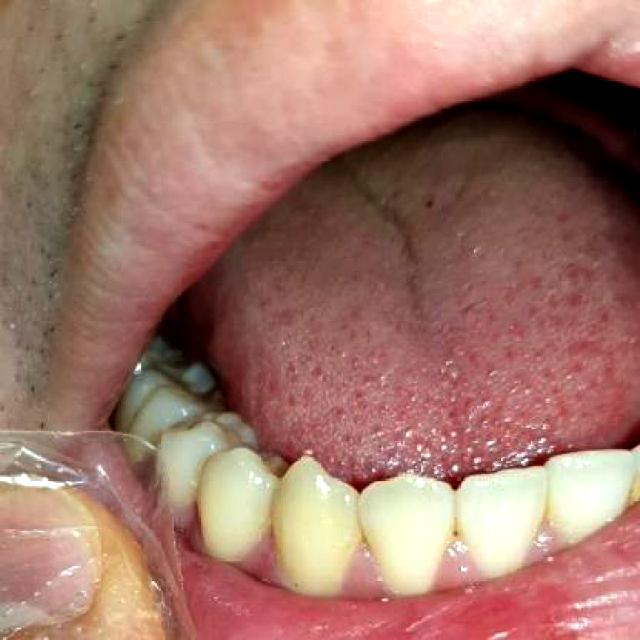Plaque: (234, 518, 292, 579)
